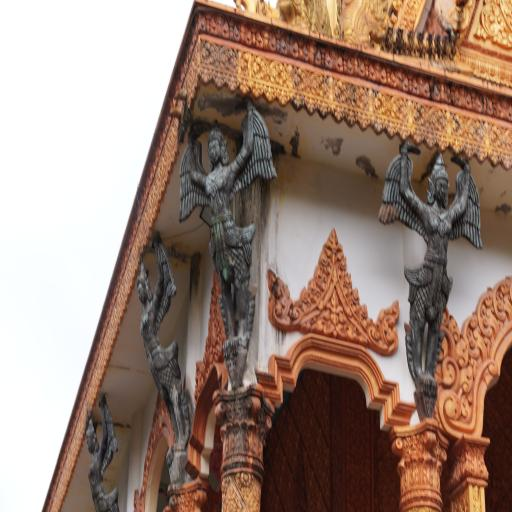than: (379, 121, 487, 421), (176, 98, 280, 392), (128, 230, 198, 486), (77, 393, 128, 512)
